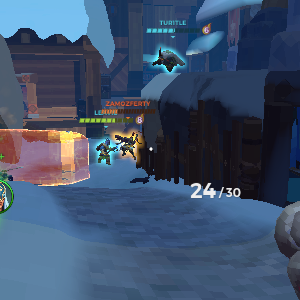model: (115, 129, 142, 160)
